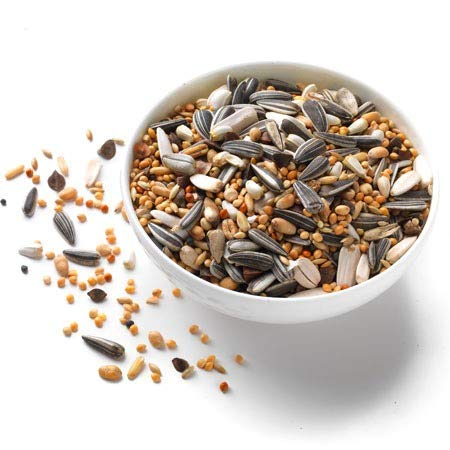seed: (121, 63, 427, 297), (1, 121, 255, 396)
